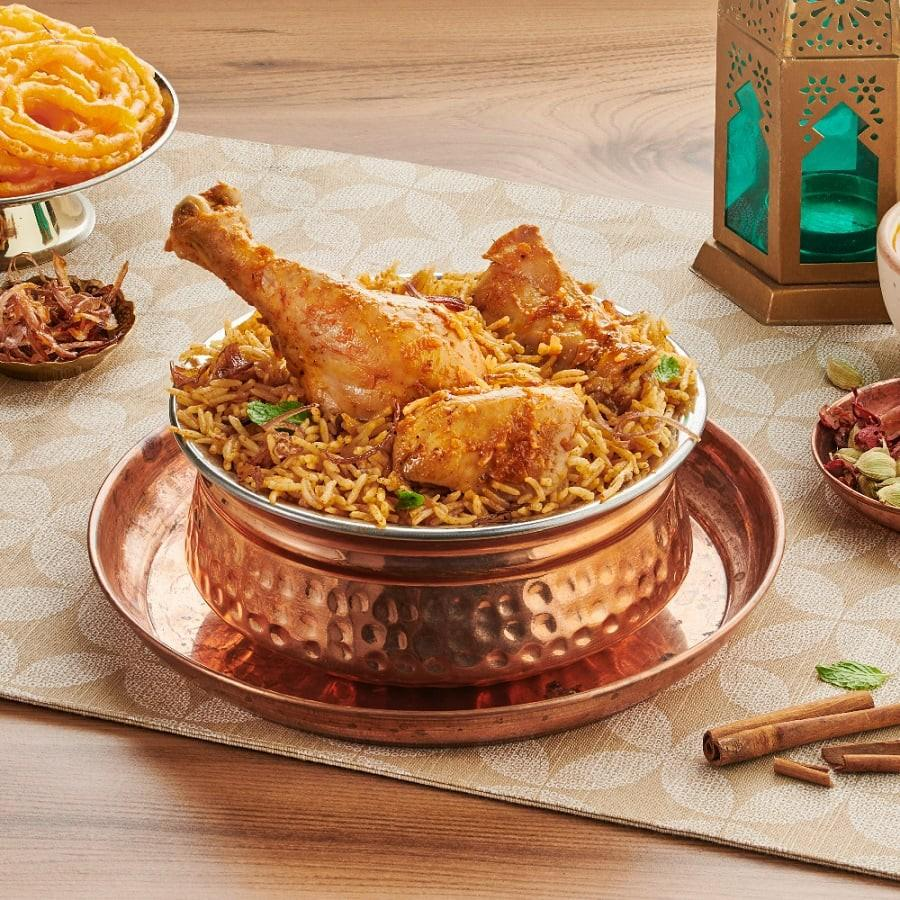Biryani: (171, 180, 699, 529)
